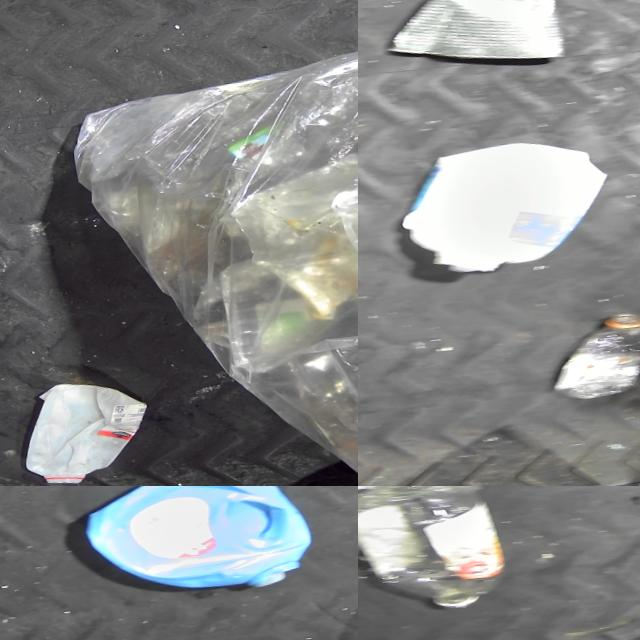can: (378, 0, 565, 82)
milk_jug: (391, 143, 607, 288), (10, 377, 143, 486)
non_white_jug: (72, 486, 308, 610)
plastic_bottle: (358, 486, 496, 619), (537, 321, 640, 411)
